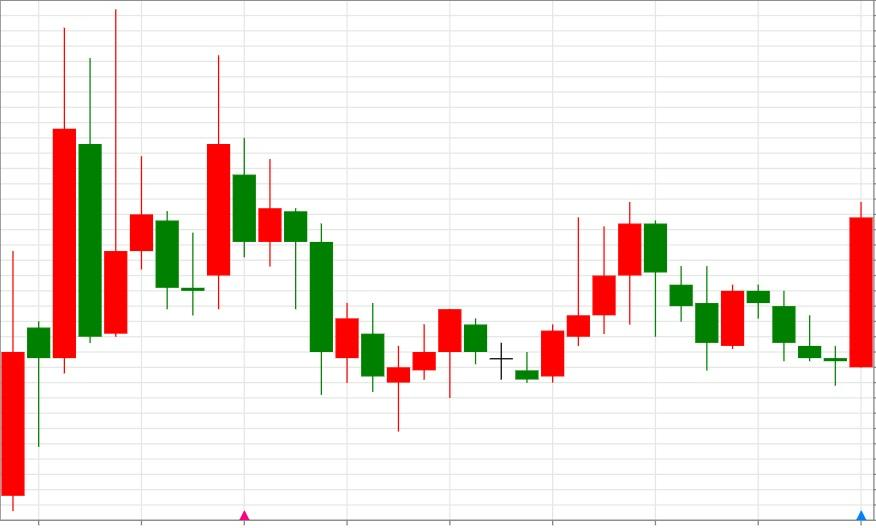bullish_engulfing_rise: (437, 307, 566, 398)
